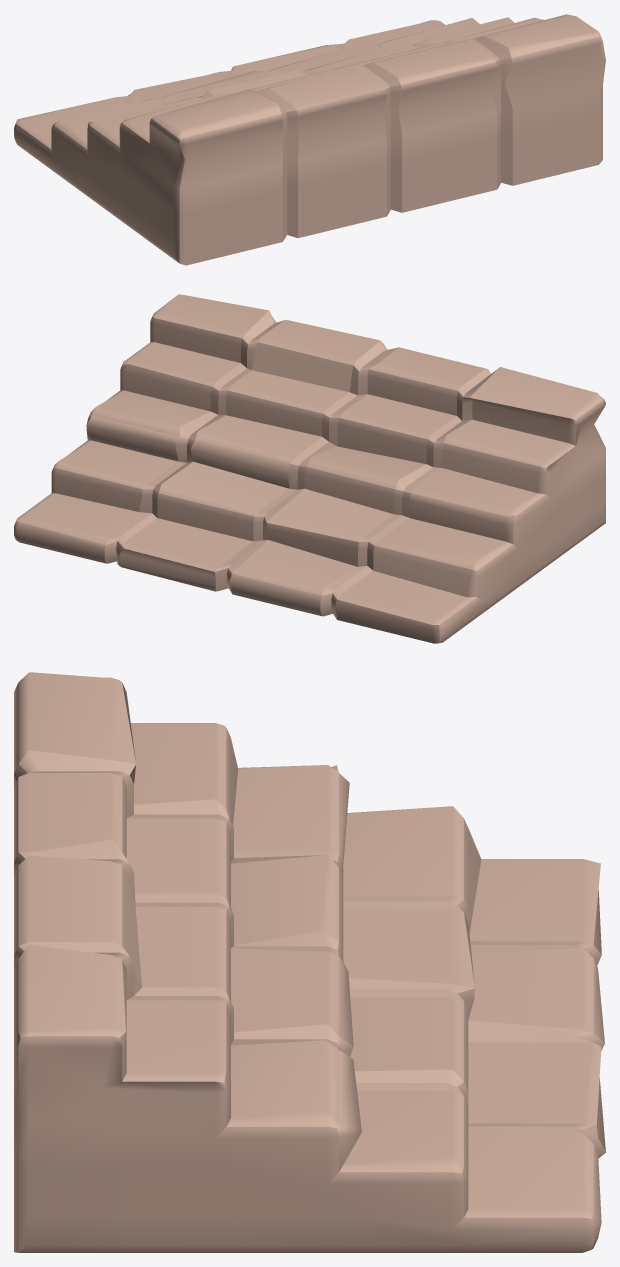
File: esalierVolcan.fbx
3 renders of one model, top to bottom at view 1: azimuth 30°, elevation 25°; view 2: azimuth 150°, elevation 25°; view 3: azimuth 270°, elevation 25°, orthographic. The views are drawn at different scales.
Parts seen in each view (by area): view 1: escalierVolcan; view 2: escalierVolcan; view 3: escalierVolcan.
Part boxes in pixels (x1,y1,x2,y2): escalierVolcan: [14, 14, 605, 265]; escalierVolcan: [14, 294, 605, 643]; escalierVolcan: [14, 672, 605, 1252].
Bounding box in the file's own units: 108 × 32.43 × 74.1.
